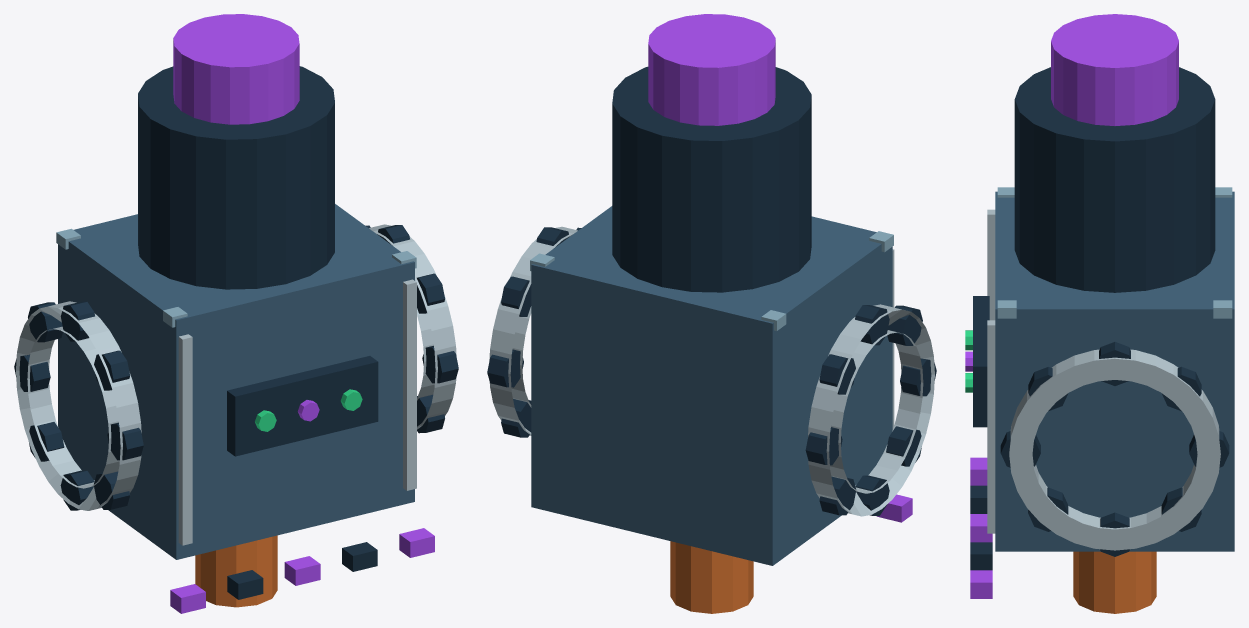
The model's file is 17_L72_HighSpeedPulseValveB.fbx.
The picture shows the model from 3 angles, left to right: view 1: azimuth 30°, elevation 25°; view 2: azimuth 150°, elevation 25°; view 3: azimuth 270°, elevation 25°; orthographic projection.
Visible parts, largest first — view 1: HighSpeedPulseValveB; view 2: HighSpeedPulseValveB; view 3: HighSpeedPulseValveB.
Part boxes in pixels (box(x1,y1,x2,y2)): HighSpeedPulseValveB: box(14, 14, 458, 613); HighSpeedPulseValveB: box(487, 14, 936, 613); HighSpeedPulseValveB: box(965, 14, 1234, 613).
Bounding box in the file's own units: 70.5 × 110 × 48.4.
